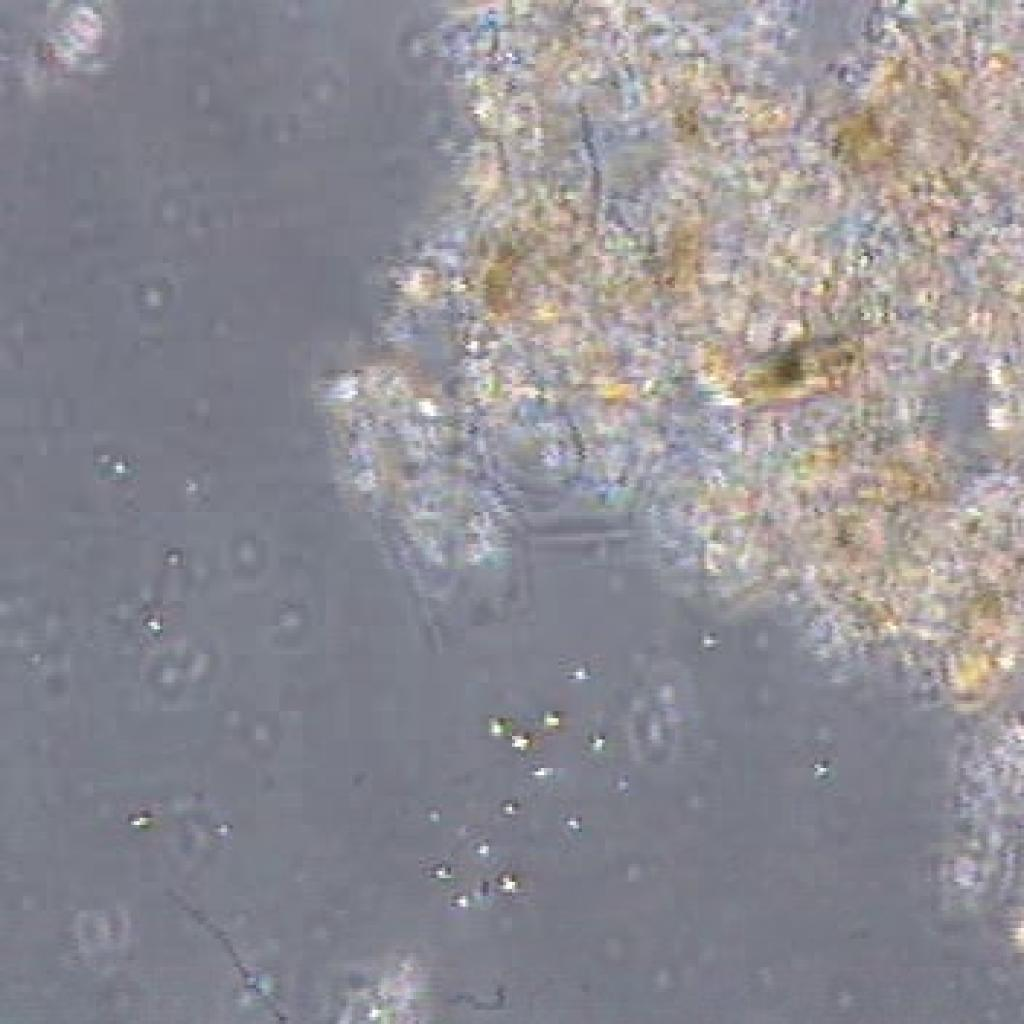Chaetonotus: (697, 325, 874, 411)
